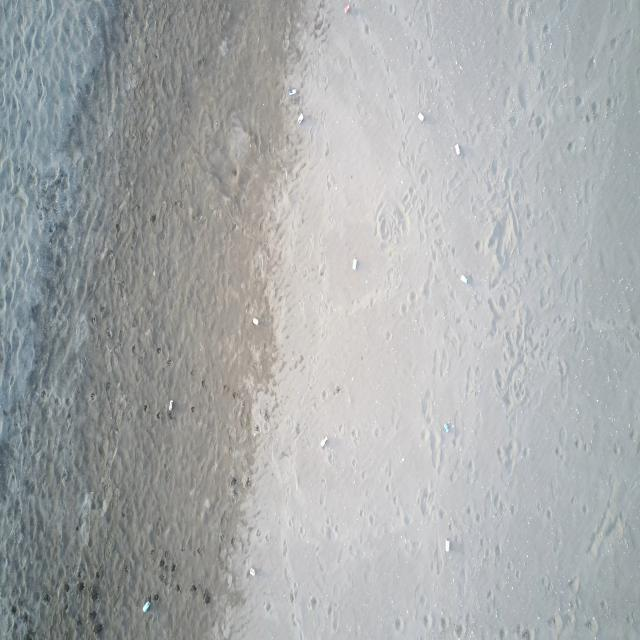tin-and-aluminum-cans: (417, 111, 425, 124), (143, 599, 150, 613), (444, 538, 450, 554), (454, 143, 461, 156), (321, 435, 328, 448), (460, 273, 468, 284), (168, 398, 174, 412), (297, 113, 304, 125), (352, 258, 358, 272), (443, 421, 449, 435), (252, 316, 259, 327), (344, 4, 350, 14), (289, 89, 297, 96), (250, 568, 256, 576)
